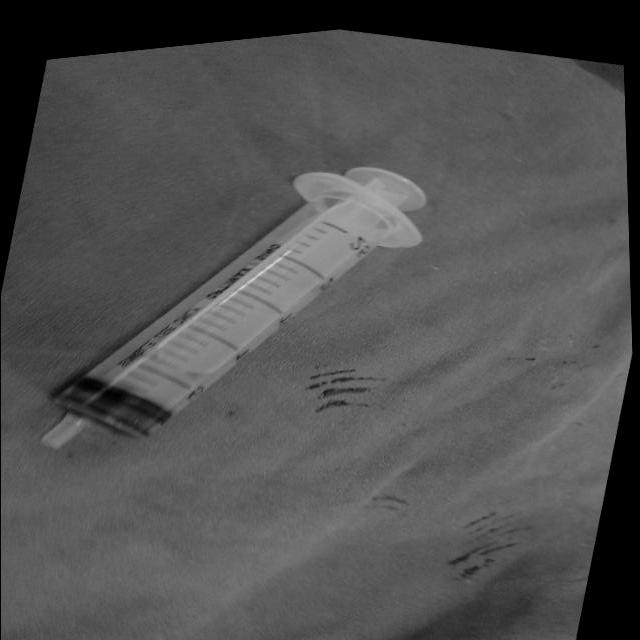Pathological: (1, 27, 632, 640)
Sharps: (39, 166, 428, 452)
